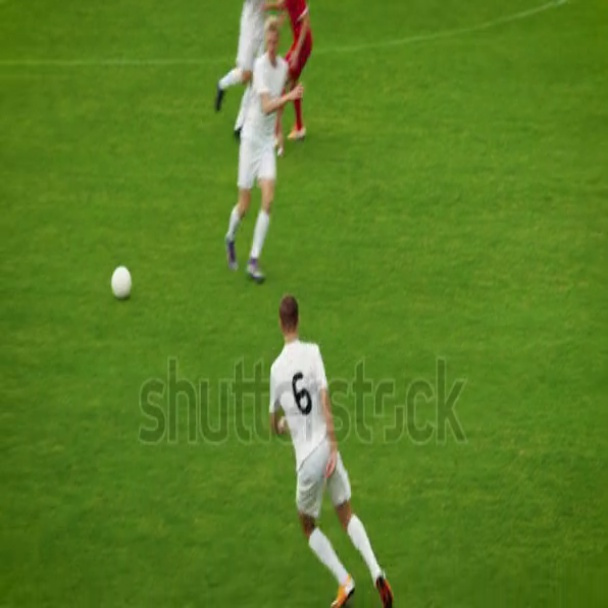ball: (113, 265, 130, 294)
